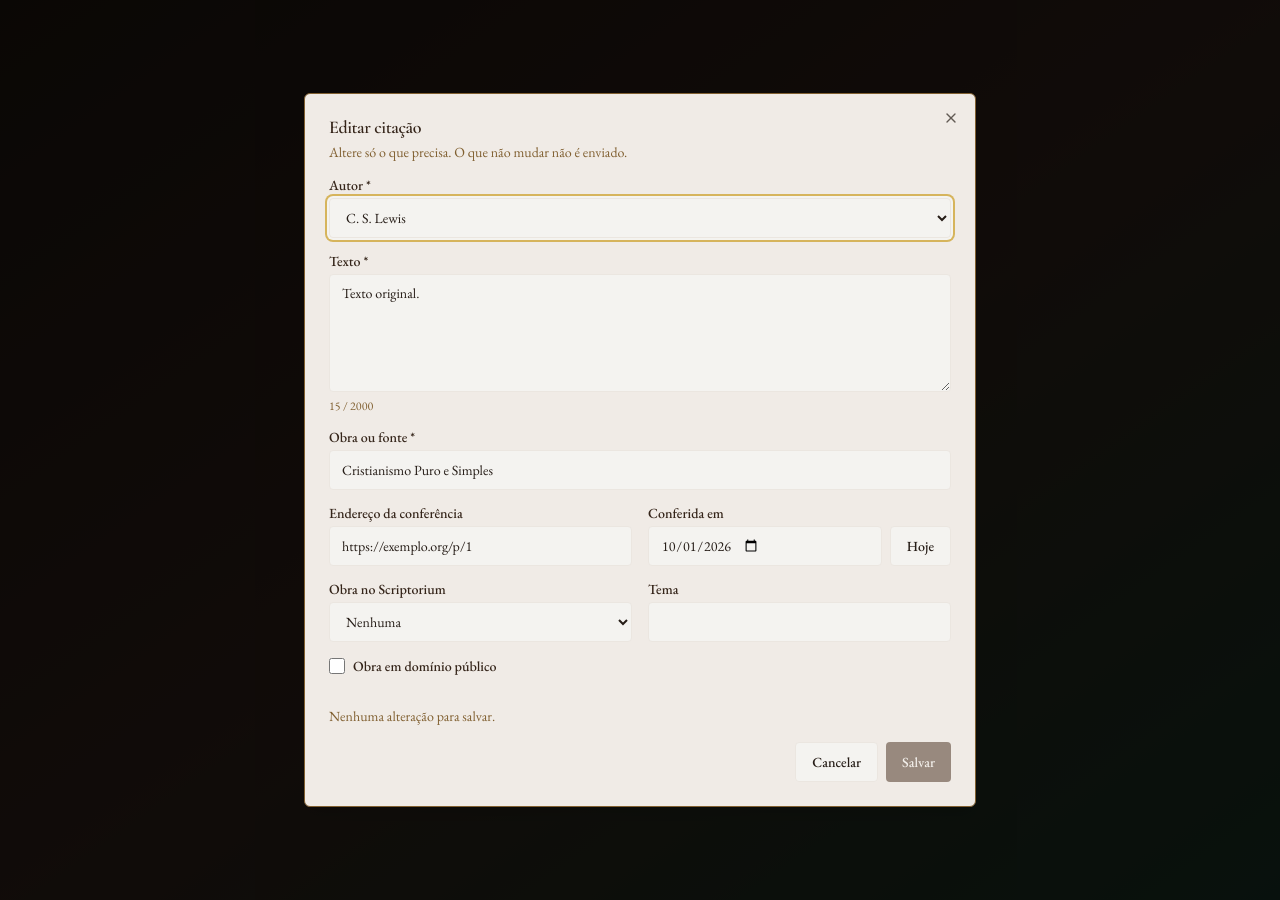
Test case: QuoteFormDialog: aviso do Gerador › Lewis passa a outro autor: sai
Select "Santo Agostinho" in the dropdown labelled "Autor *" at (640, 218), box left=329, top=198, right=951, bottom=238
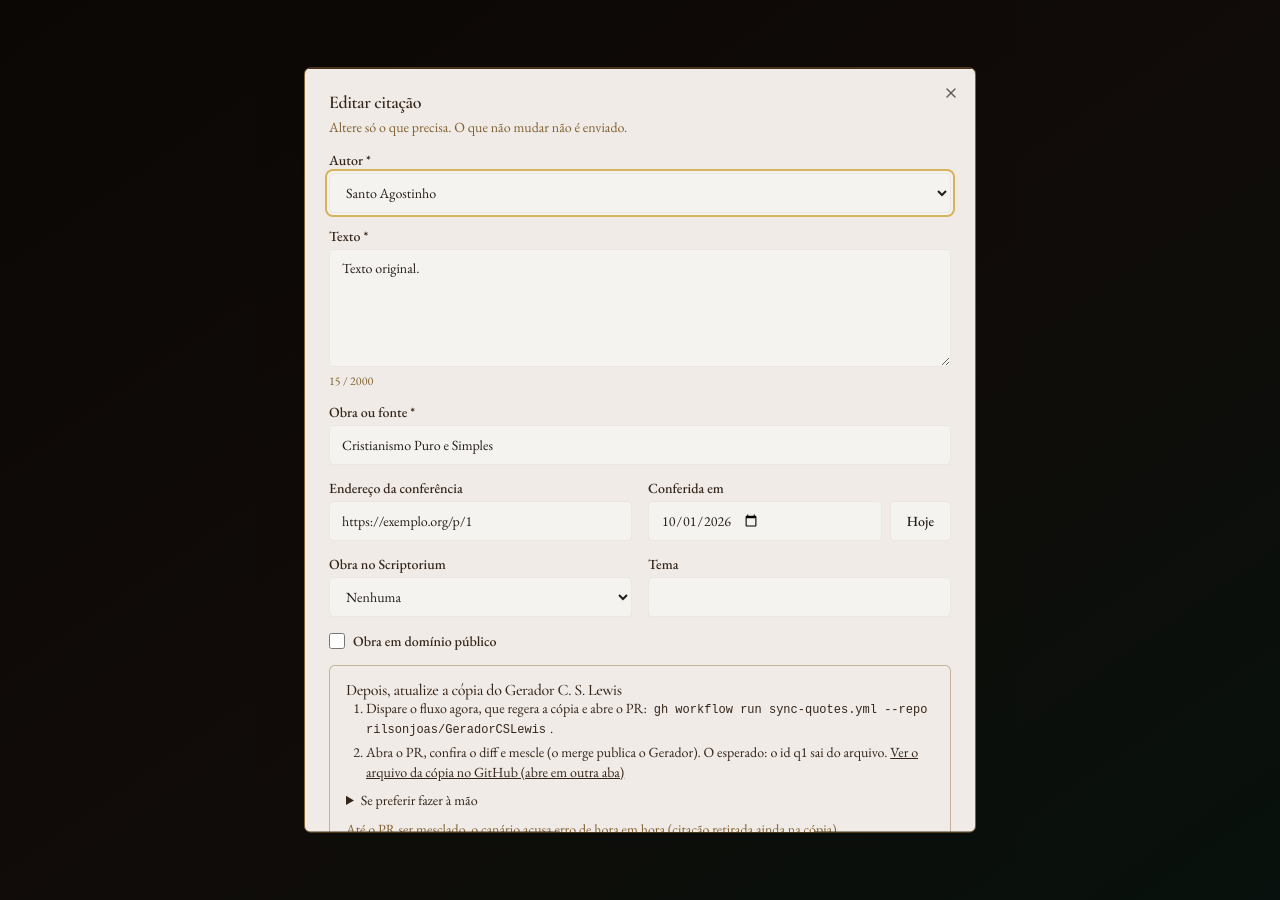
Check: the text "o id q1 sai do arquivo" is shown, box left=770, top=742, right=884, bottom=760
